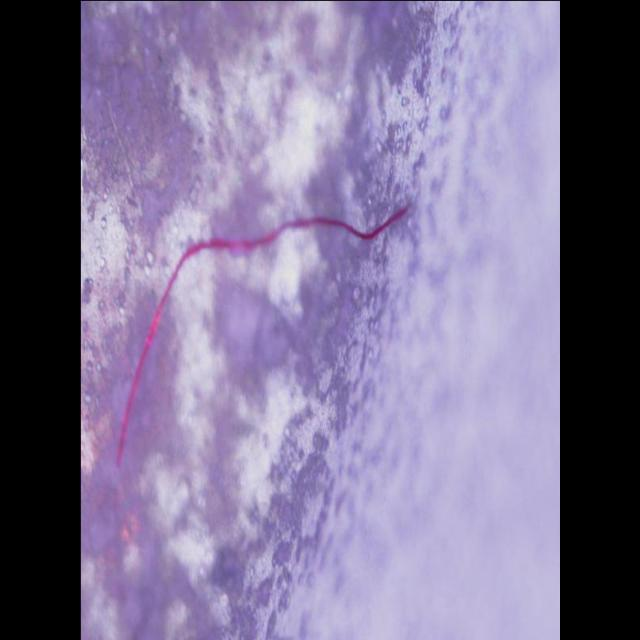Fibre: (114, 200, 410, 468)
